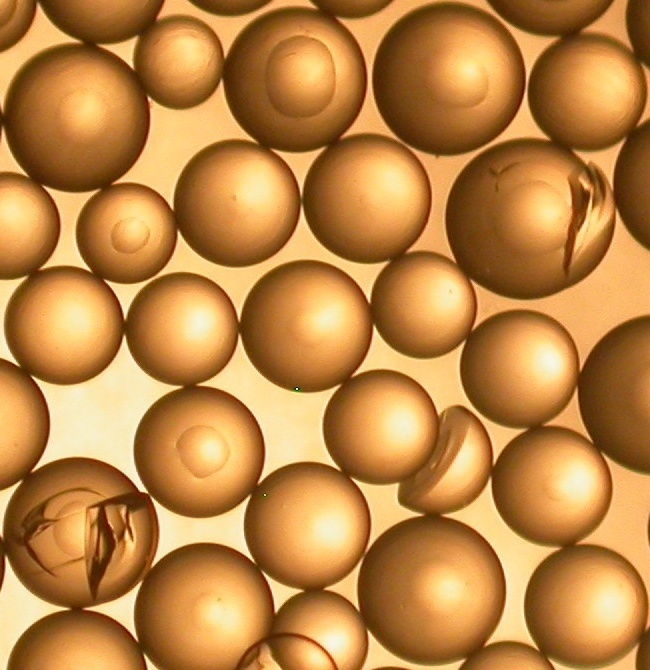resin: (445, 138, 617, 300), (372, 4, 527, 156), (3, 458, 158, 609), (1, 42, 151, 193), (357, 515, 506, 666), (223, 6, 368, 154), (133, 542, 275, 670), (241, 260, 373, 393), (133, 387, 265, 518), (302, 132, 433, 263), (243, 461, 372, 591), (173, 139, 302, 269), (523, 543, 650, 668), (492, 426, 614, 548), (460, 309, 580, 430), (4, 267, 126, 386), (528, 33, 648, 153), (323, 369, 440, 486), (124, 272, 240, 386), (578, 312, 650, 477), (371, 250, 477, 359), (397, 404, 494, 516), (76, 180, 178, 284), (133, 13, 225, 110), (6, 609, 149, 670), (273, 590, 369, 670), (1, 169, 61, 281), (1, 360, 50, 492), (39, 1, 164, 43)
